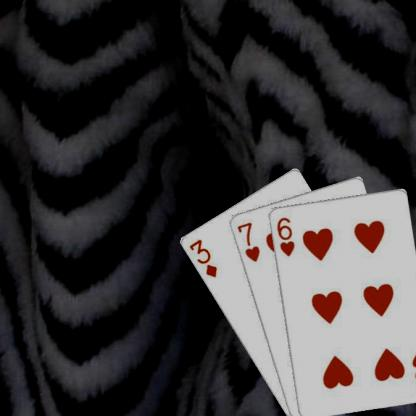3D: (186, 236, 218, 279)
6H: (274, 214, 296, 258), (409, 350, 416, 392)
7H: (234, 219, 261, 264)
